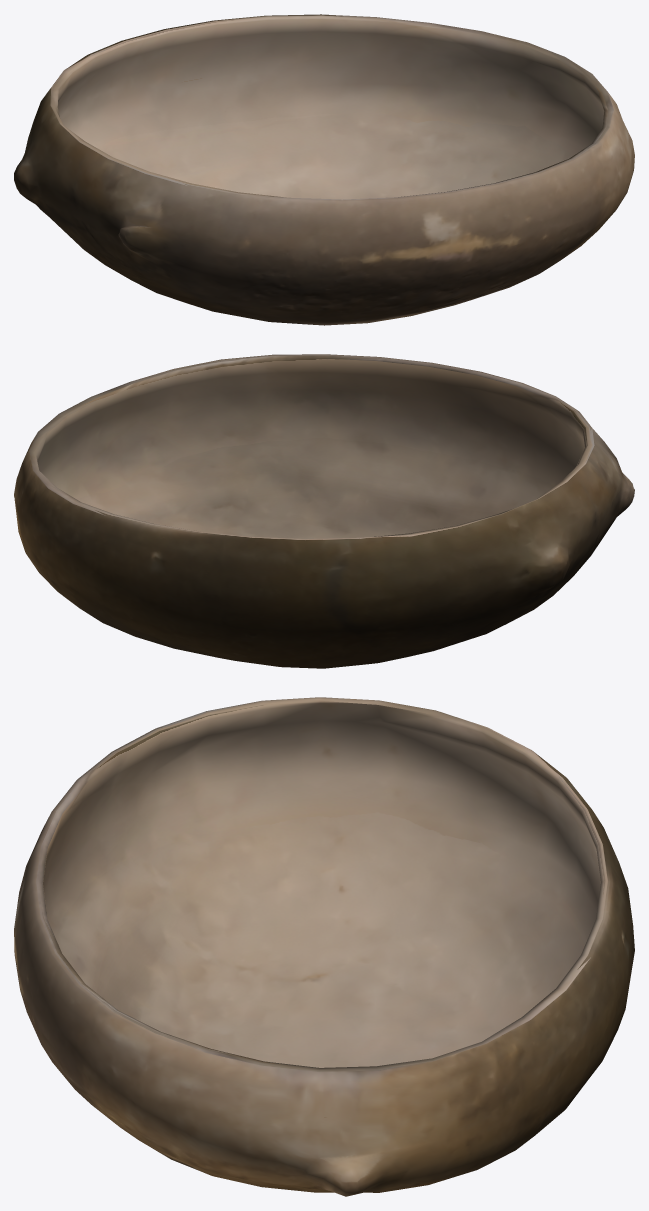
Rendered from cuenco tipo 4.fbx.
3 renders of one model, top to bottom at view 1: azimuth 30°, elevation 25°; view 2: azimuth 150°, elevation 25°; view 3: azimuth 270°, elevation 25°, orthographic. The views are drawn at different scales.
Visible parts, largest first — view 1: cuenco tipo 4; view 2: cuenco tipo 4; view 3: cuenco tipo 4.
Boxes of the visible parts, box(x1,y1,x2,y2) form: cuenco tipo 4: box(14, 14, 634, 325); cuenco tipo 4: box(14, 354, 634, 668); cuenco tipo 4: box(14, 697, 634, 1196).
Bounding box in the file's own units: 26.2 × 20.04 × 8.63.
Materials: 1 (1 with a texture image).
